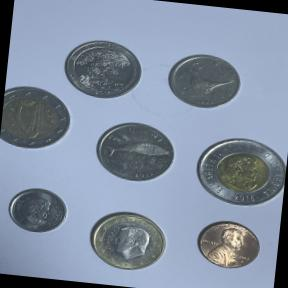1 Euro-B: (82, 204, 175, 278)
2 Euro-B: (0, 81, 75, 156)
Canada-10cent-B: (4, 183, 72, 239)
Canada-2Dollar-B: (187, 126, 288, 214)
Croatia-2Kune-B: (88, 112, 183, 192)
US-1cent-B: (190, 214, 266, 274)
US-25cent-B: (58, 33, 146, 105)
